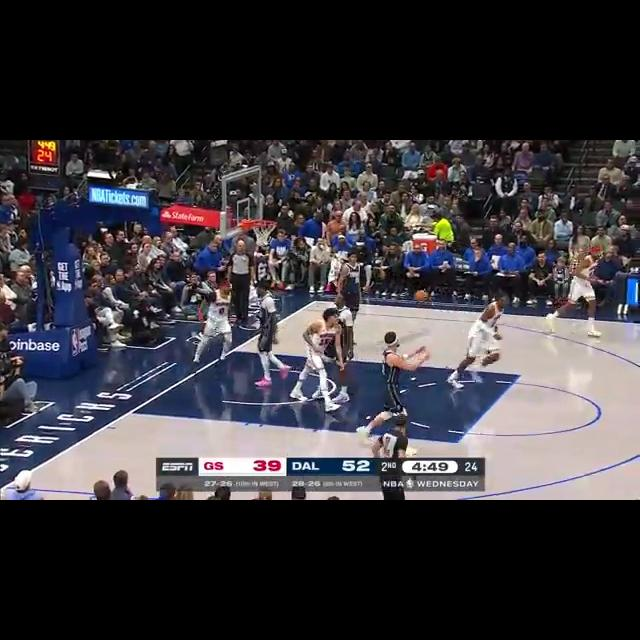Ball: (413, 290, 429, 306)
Team-1-Player: (354, 328, 436, 438), (245, 278, 291, 388), (338, 250, 368, 308)
Team-2-Player: (441, 288, 515, 392), (286, 307, 350, 413), (543, 242, 607, 344), (194, 278, 238, 364)
